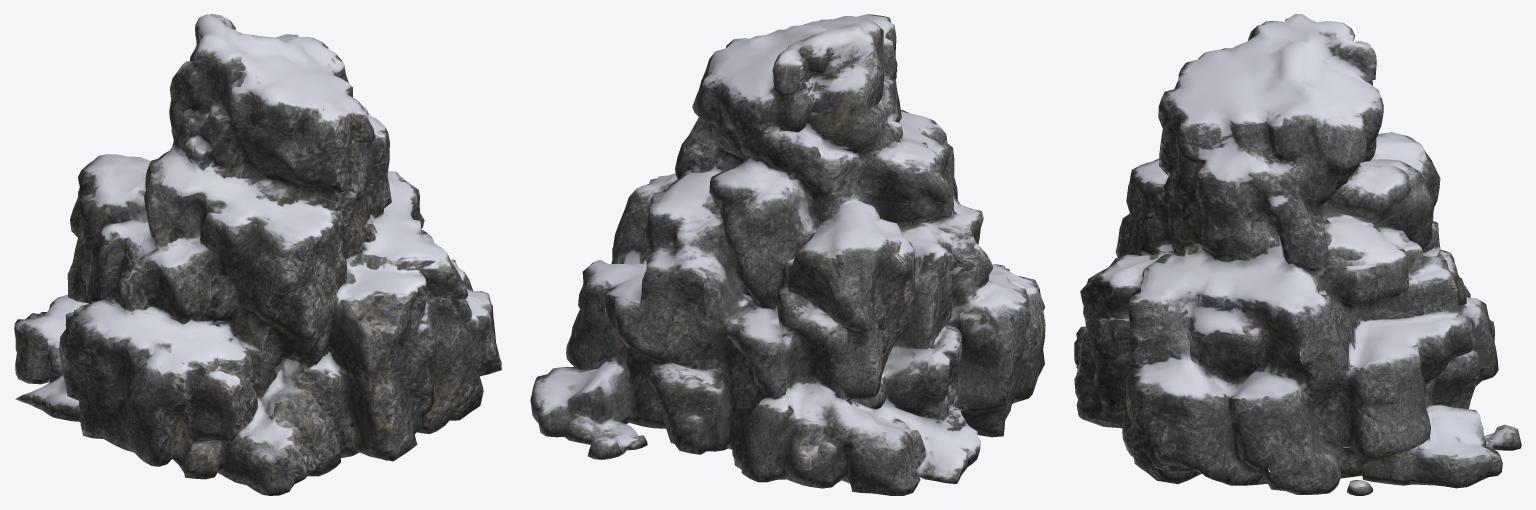
The model's file is snow-rock-pile.glb.
The picture shows the model from 3 angles, left to right: view 1: azimuth 30°, elevation 25°; view 2: azimuth 150°, elevation 25°; view 3: azimuth 270°, elevation 25°; orthographic projection. The views are drawn at different scales.
Visible parts, largest first — view 1: tripo_34b7e81f_4eaf_4bda_8ad9_8f99f7236242; view 2: tripo_34b7e81f_4eaf_4bda_8ad9_8f99f7236242; view 3: tripo_34b7e81f_4eaf_4bda_8ad9_8f99f7236242.
Part boxes in pixels (x1,y1,x2,y2): tripo_34b7e81f_4eaf_4bda_8ad9_8f99f7236242: [14, 14, 501, 495]; tripo_34b7e81f_4eaf_4bda_8ad9_8f99f7236242: [530, 14, 1045, 495]; tripo_34b7e81f_4eaf_4bda_8ad9_8f99f7236242: [1074, 14, 1521, 495].
Bounding box in the file's own units: 0.9995 × 0.9067 × 0.9814.
Materials: 1 (1 with a texture image).
